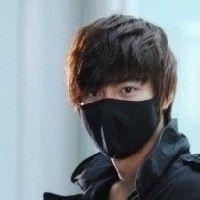face_mask: (81, 52, 158, 153)
